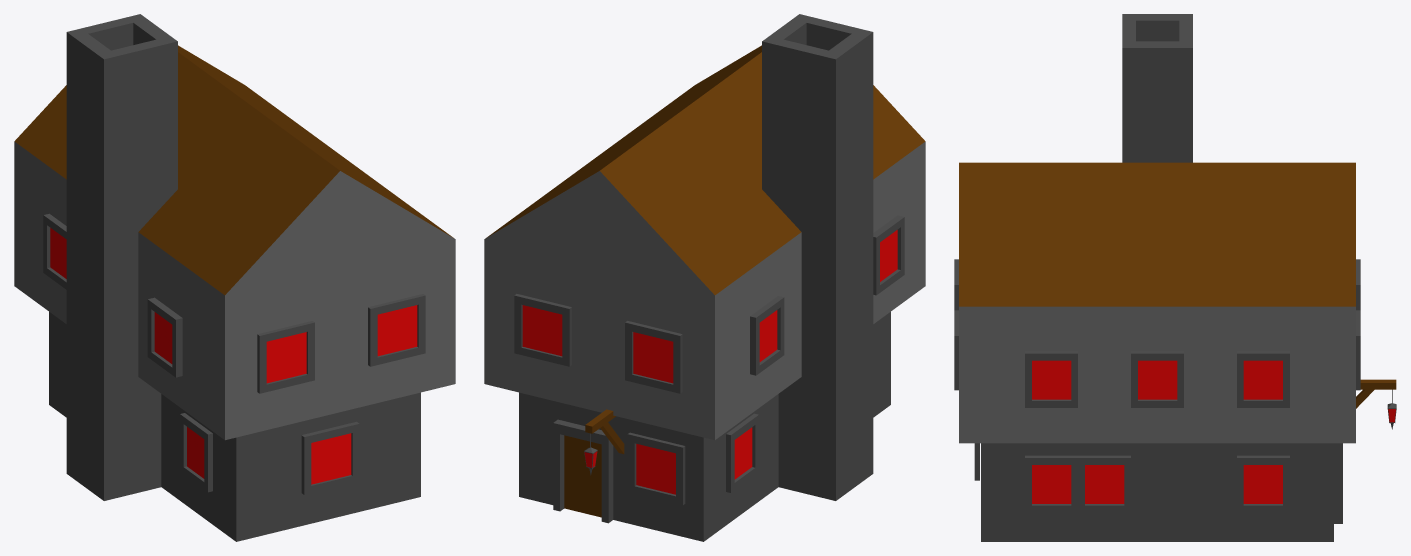
File: Casa_00.fbx
The picture shows the model from 3 angles, left to right: view 1: azimuth 30°, elevation 25°; view 2: azimuth 150°, elevation 25°; view 3: azimuth 270°, elevation 25°; orthographic projection. The views are drawn at different scales.
Visible parts, largest first — view 1: Chimney, HouseLevel, HouseTop, HouseBase, HouseWindow (×6); view 2: Chimney, HouseLevel, HouseTop, HouseBase, HouseWindow (×6), Door01, HouseLamp; view 3: HouseTop, HouseLevel, HouseBase, HouseWindow (×6), Chimney, HouseLamp, Door01.
Boxes of the visible parts, x1,y1,x2,y2 form: Chimney: (66, 14, 177, 500); HouseLevel: (14, 141, 455, 440); HouseTop: (14, 45, 455, 295); HouseBase: (49, 312, 420, 541); HouseWindow (×6): (43, 213, 425, 494); Chimney: (762, 14, 873, 500); HouseLevel: (484, 141, 925, 440); HouseTop: (484, 45, 925, 295); HouseBase: (519, 312, 890, 541); HouseWindow (×6): (514, 215, 904, 505); Door01: (553, 419, 613, 523); HouseLamp: (584, 409, 624, 475); HouseTop: (959, 162, 1355, 306); HouseLevel: (959, 306, 1355, 443); HouseBase: (981, 443, 1333, 541); HouseWindow (×6): (1025, 350, 1289, 512); Chimney: (1122, 14, 1192, 162); HouseLamp: (1356, 379, 1396, 429); Door01: (1334, 443, 1342, 523).
Bounding box in the file's own units: 13.28 × 20.67 × 19.89.
